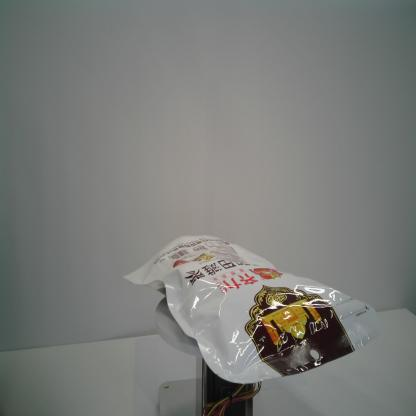Dried Food: (122, 232, 387, 387)
